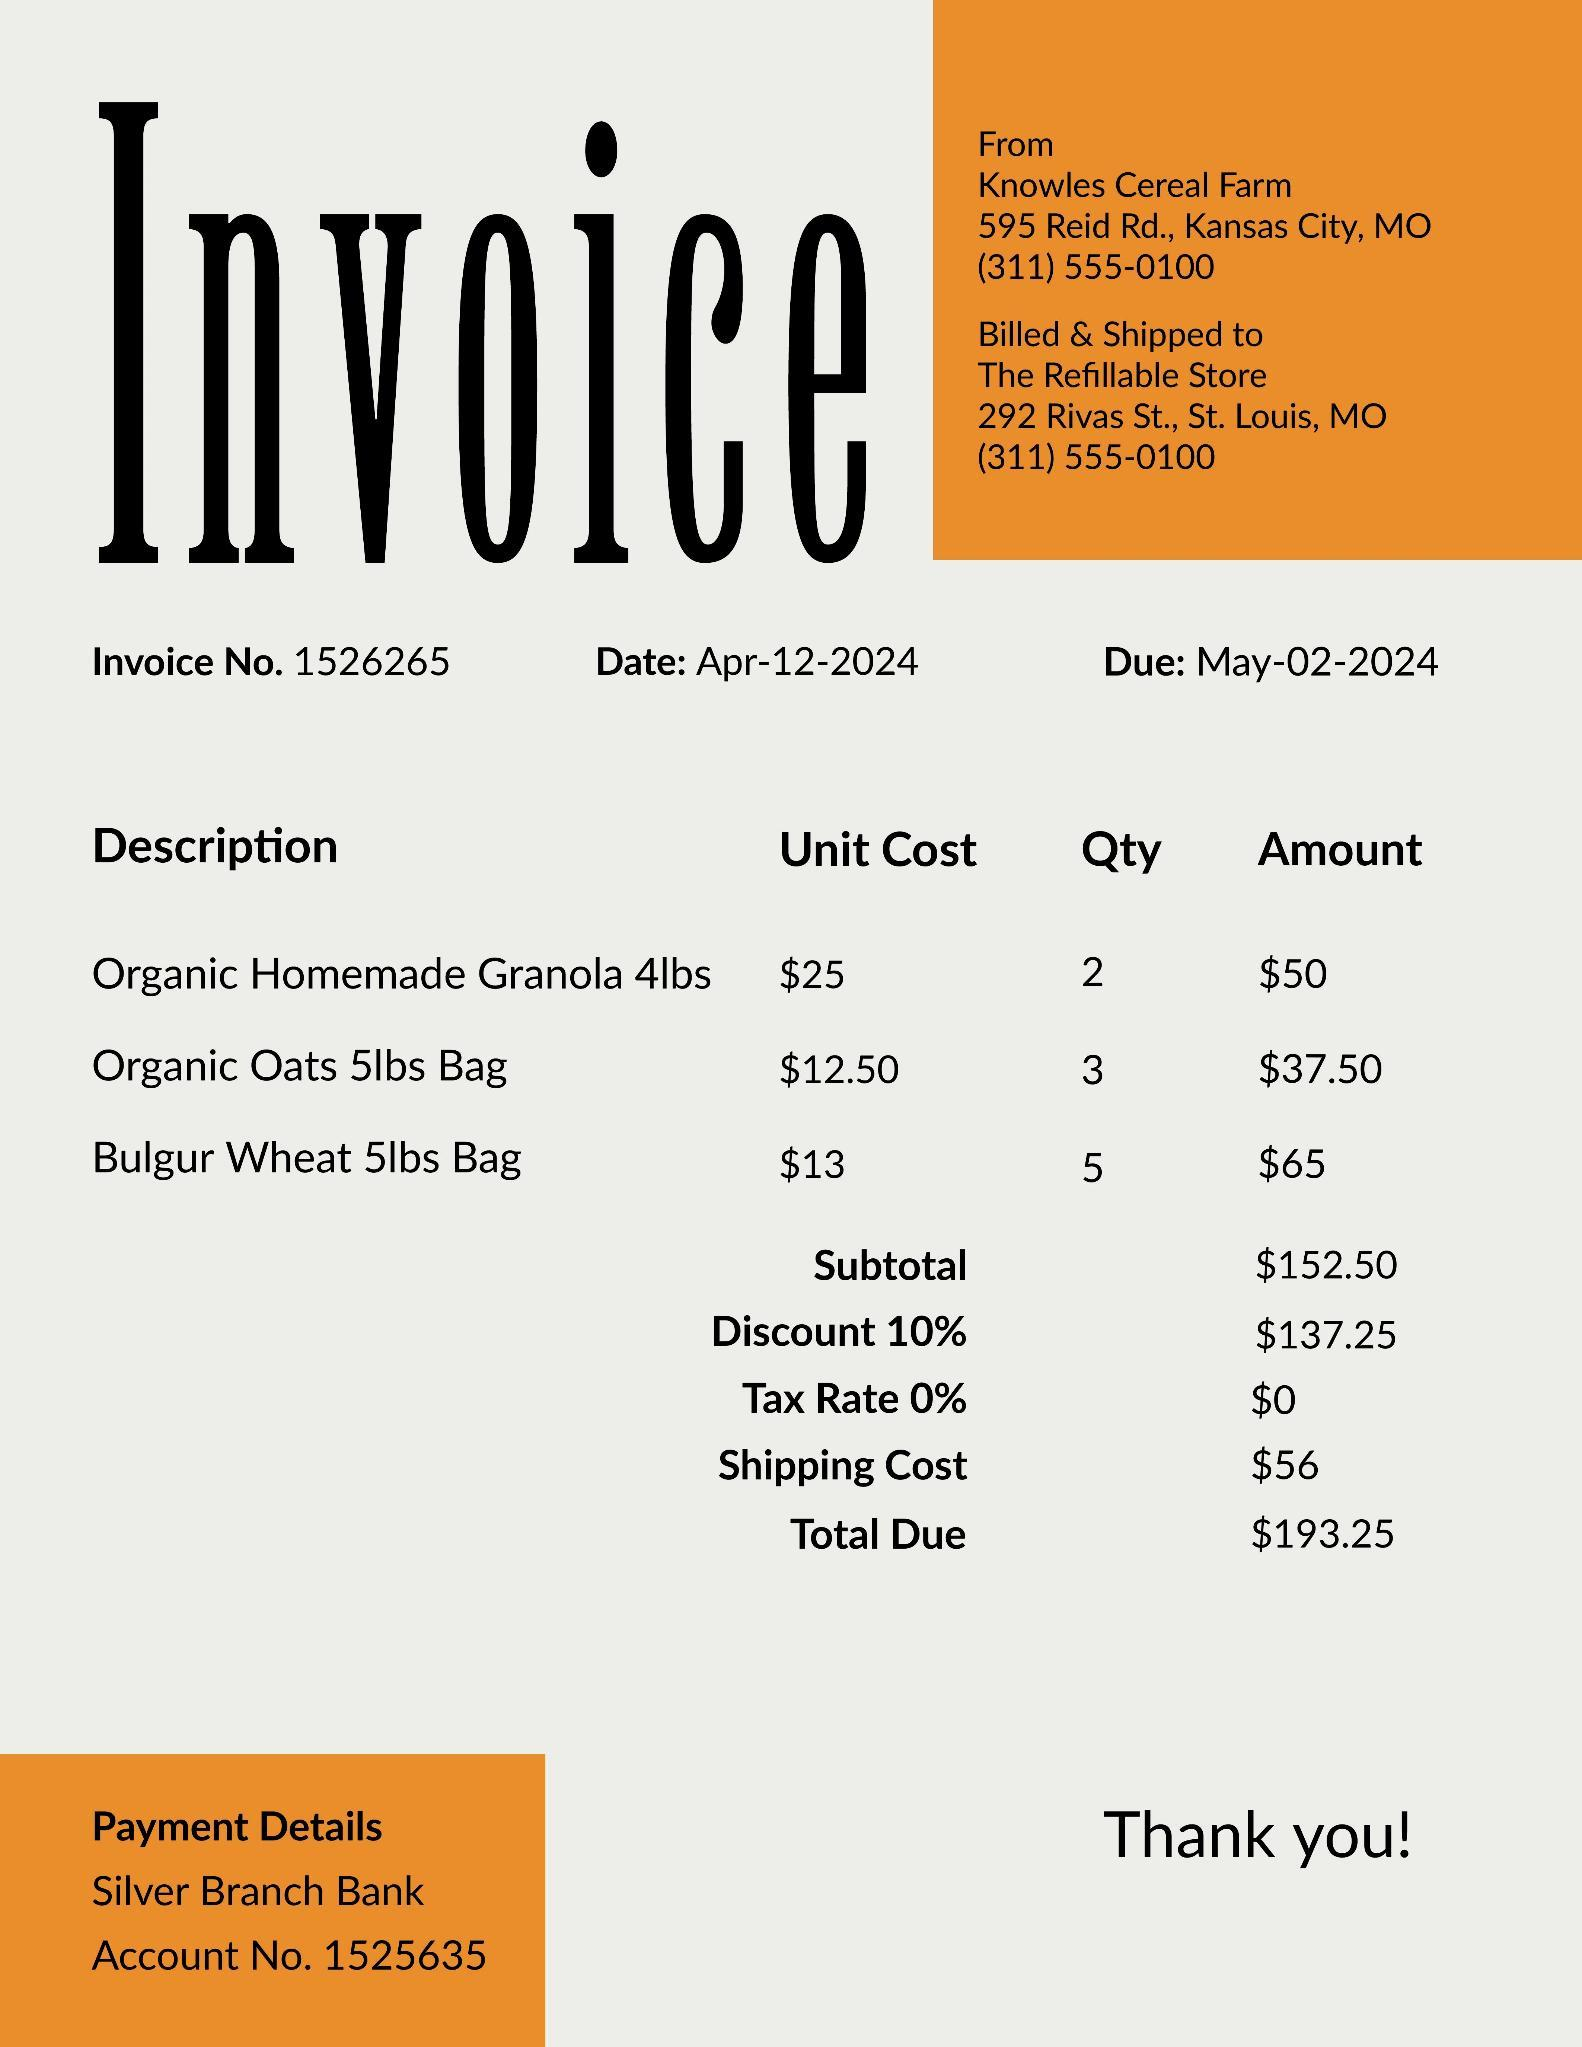ROI: (54, 802, 1503, 1218), (42, 64, 890, 580), (668, 1238, 1446, 1575), (43, 1760, 521, 2025), (1048, 1763, 1466, 1908), (50, 605, 466, 729), (1074, 627, 1481, 709), (579, 623, 953, 711)
